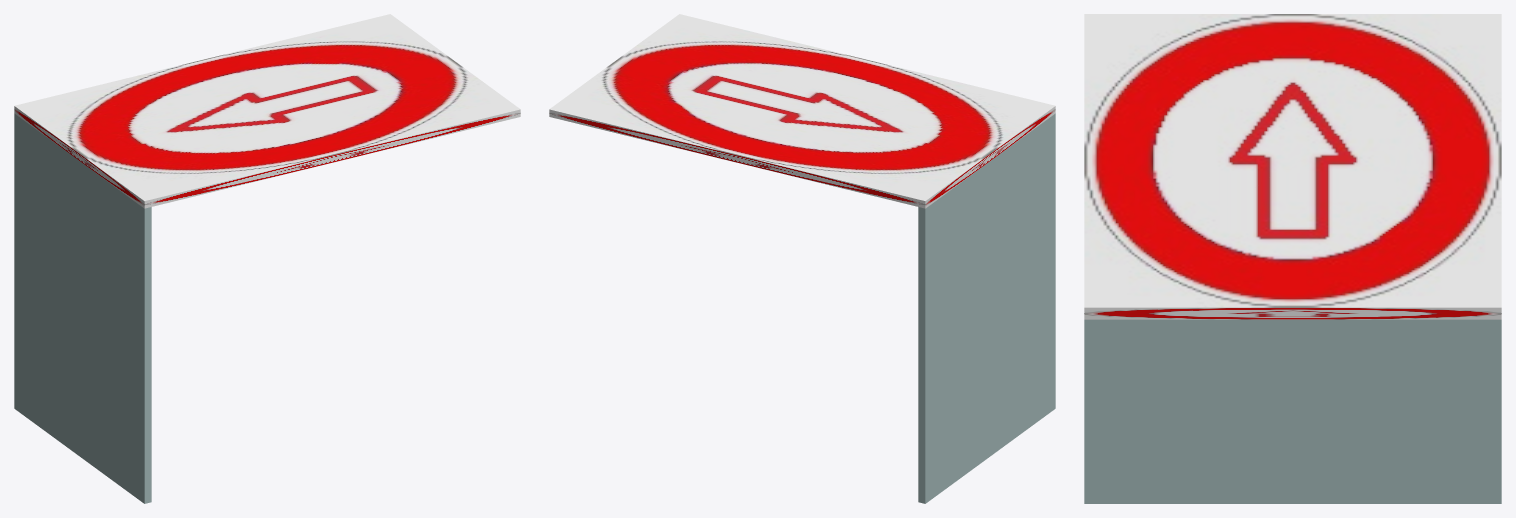
The model's file is onePart-opaque.gltf.
The picture shows the model from 3 angles, left to right: view 1: azimuth 30°, elevation 25°; view 2: azimuth 150°, elevation 25°; view 3: azimuth 270°, elevation 25°; orthographic projection. The views are drawn at different scales.
Parts seen in each view (by area): view 1: {2B4B3962-5709-47fd-B929-DA0EDA4AF010}_Node, {30E0F2F2-7DE4-4fd1-B728-C459DA6D4A10}_Node; view 2: {2B4B3962-5709-47fd-B929-DA0EDA4AF010}_Node, {30E0F2F2-7DE4-4fd1-B728-C459DA6D4A10}_Node; view 3: {2B4B3962-5709-47fd-B929-DA0EDA4AF010}_Node, {30E0F2F2-7DE4-4fd1-B728-C459DA6D4A10}_Node.
Boxes of the visible parts, x1,y1,x2,y2 form: {2B4B3962-5709-47fd-B929-DA0EDA4AF010}_Node: (14, 14, 520, 208); {30E0F2F2-7DE4-4fd1-B728-C459DA6D4A10}_Node: (14, 113, 151, 503); {2B4B3962-5709-47fd-B929-DA0EDA4AF010}_Node: (549, 14, 1055, 208); {30E0F2F2-7DE4-4fd1-B728-C459DA6D4A10}_Node: (918, 113, 1055, 503); {2B4B3962-5709-47fd-B929-DA0EDA4AF010}_Node: (1084, 14, 1501, 319); {30E0F2F2-7DE4-4fd1-B728-C459DA6D4A10}_Node: (1084, 319, 1501, 503).
Size of the model in its own units: 1 by 0.769 by 0.6.
2 materials, 1 textured.
